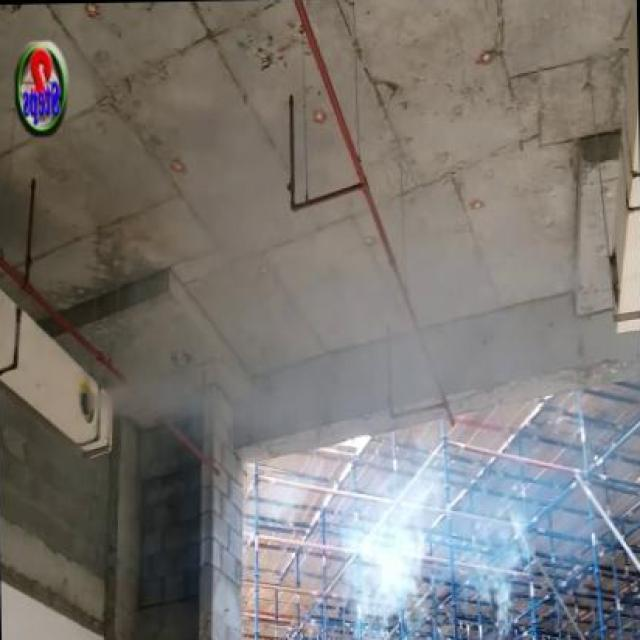fire: (336, 449, 434, 640), (92, 338, 254, 416), (459, 490, 528, 636)
